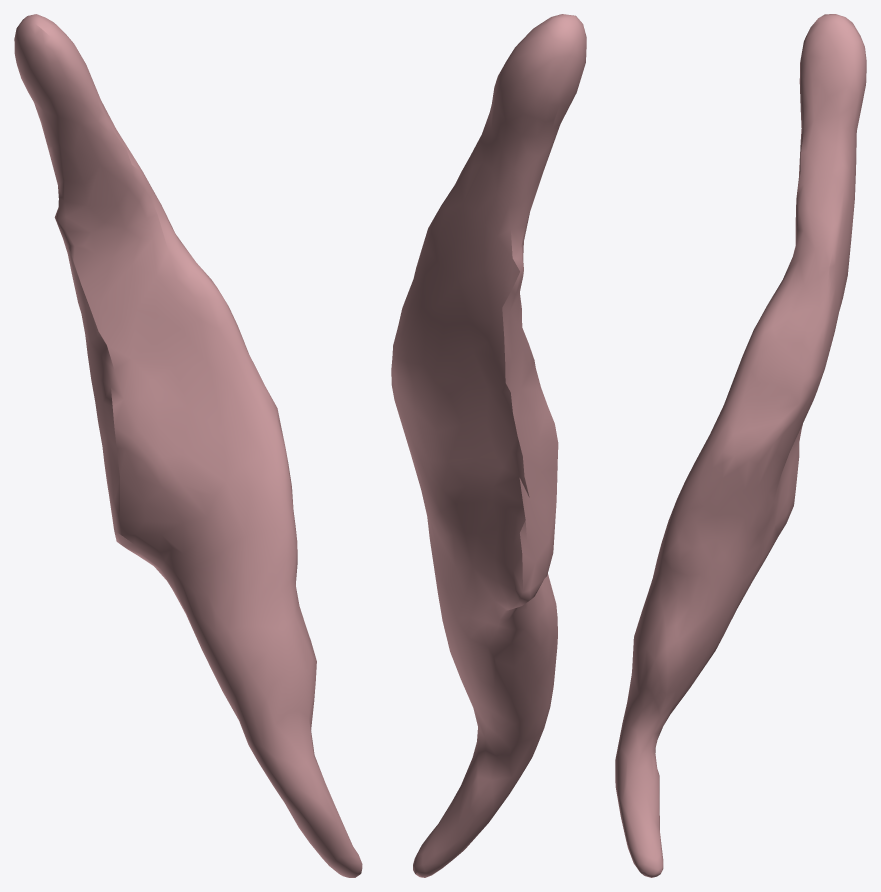
The model's file is fma46215_mm2031.glb.
3 views of the same model, side by side, from view 1: azimuth 30°, elevation 25°; view 2: azimuth 150°, elevation 25°; view 3: azimuth 270°, elevation 25° (orthographic). The views are drawn at different scales.
Visible parts, largest first — view 1: FMA46215_MM2031; view 2: FMA46215_MM2031; view 3: FMA46215_MM2031.
Boxes of the visible parts, x1=… form: FMA46215_MM2031: x1=14, y1=14, x2=362, y2=877; FMA46215_MM2031: x1=391, y1=14, x2=586, y2=877; FMA46215_MM2031: x1=615, y1=14, x2=866, y2=877.
Bounding box in the file's own units: 0.0184 × 0.0618 × 0.0184.
